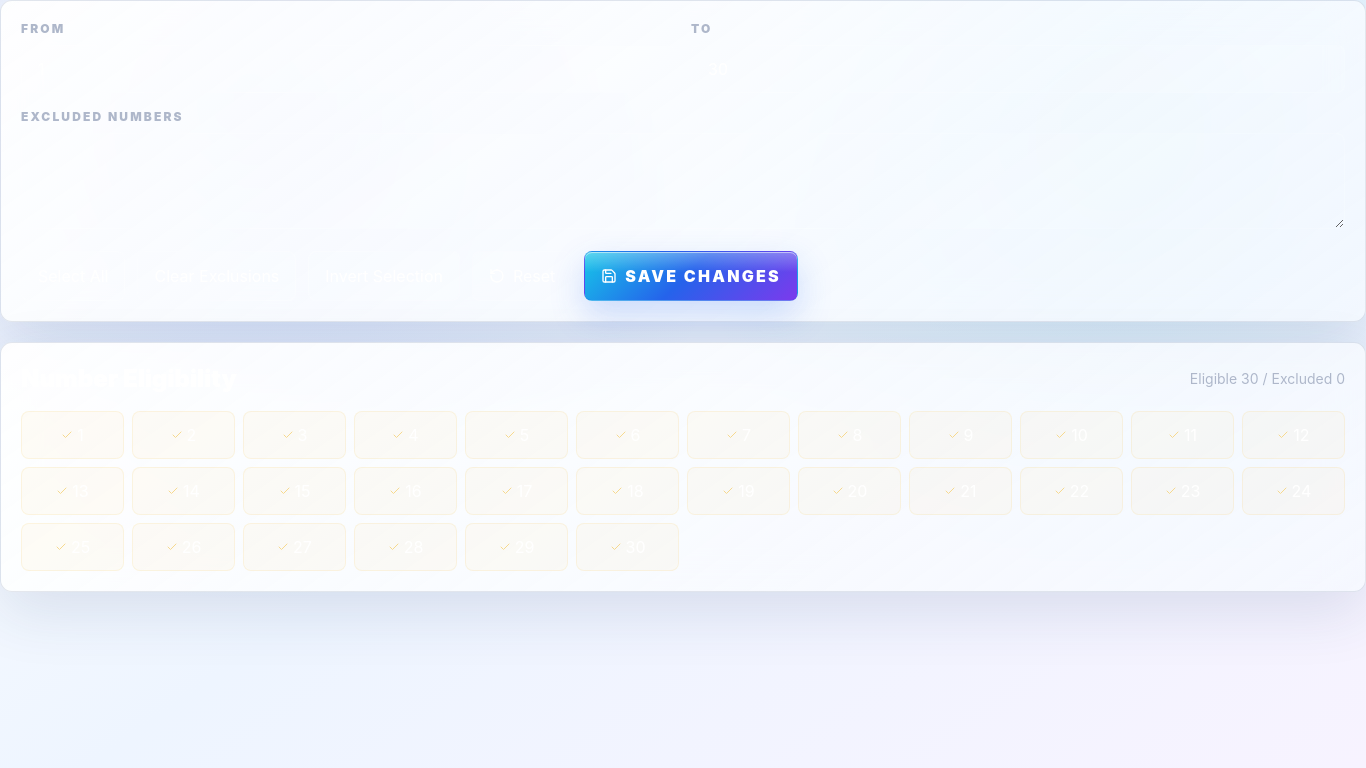
Test case: admin feedback banners › wheel settings use a readable fallback instead of an empty success banner
The image size is (1366, 768).
Click the button "Save Changes". click: point(691, 276)
box: [584, 251, 798, 301]
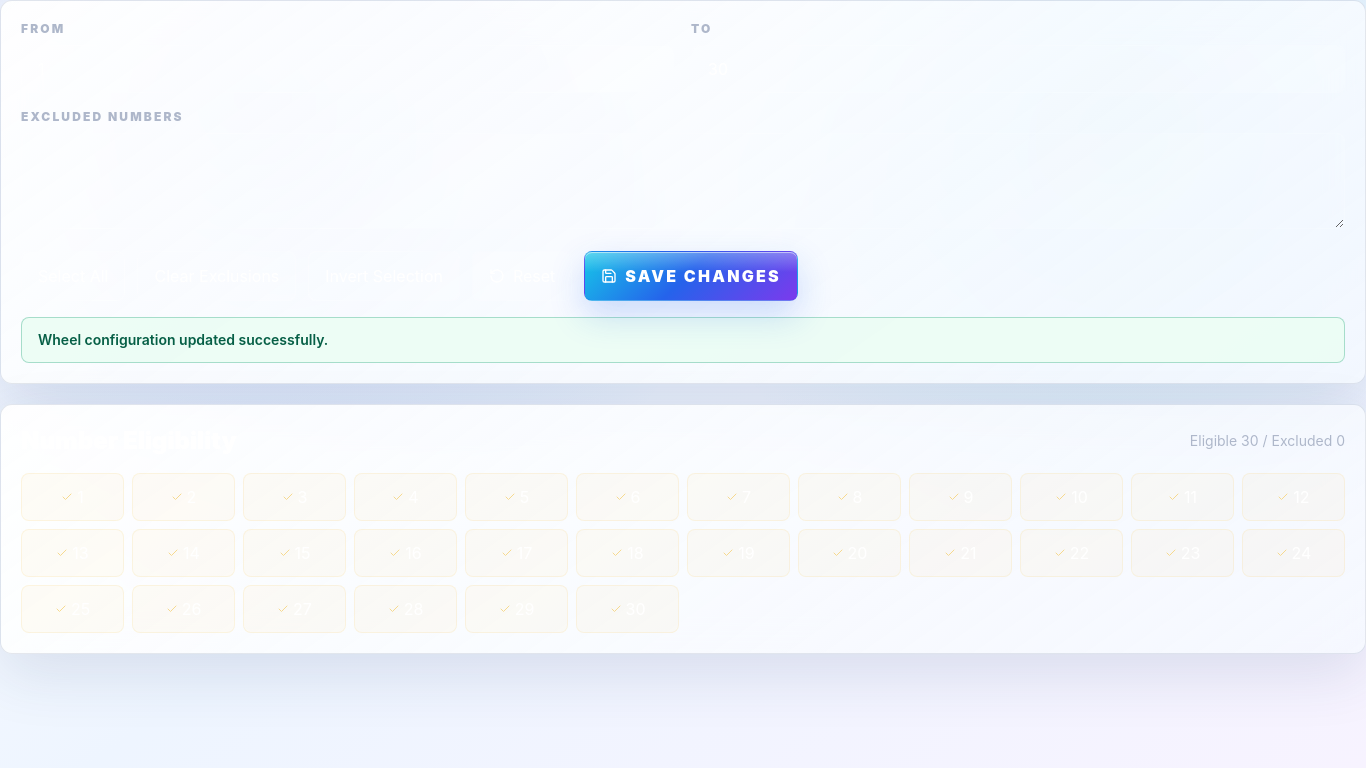
Result: the text "Wheel configuration updated successfully." is shown at [21, 317, 1345, 363]
